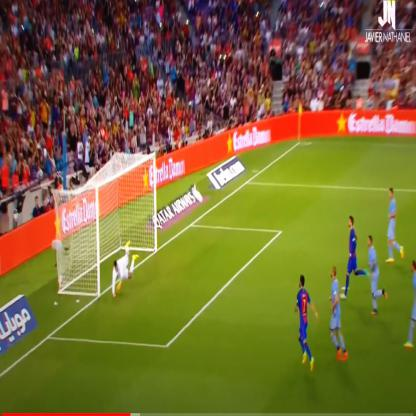goal: (49, 183, 153, 320)
